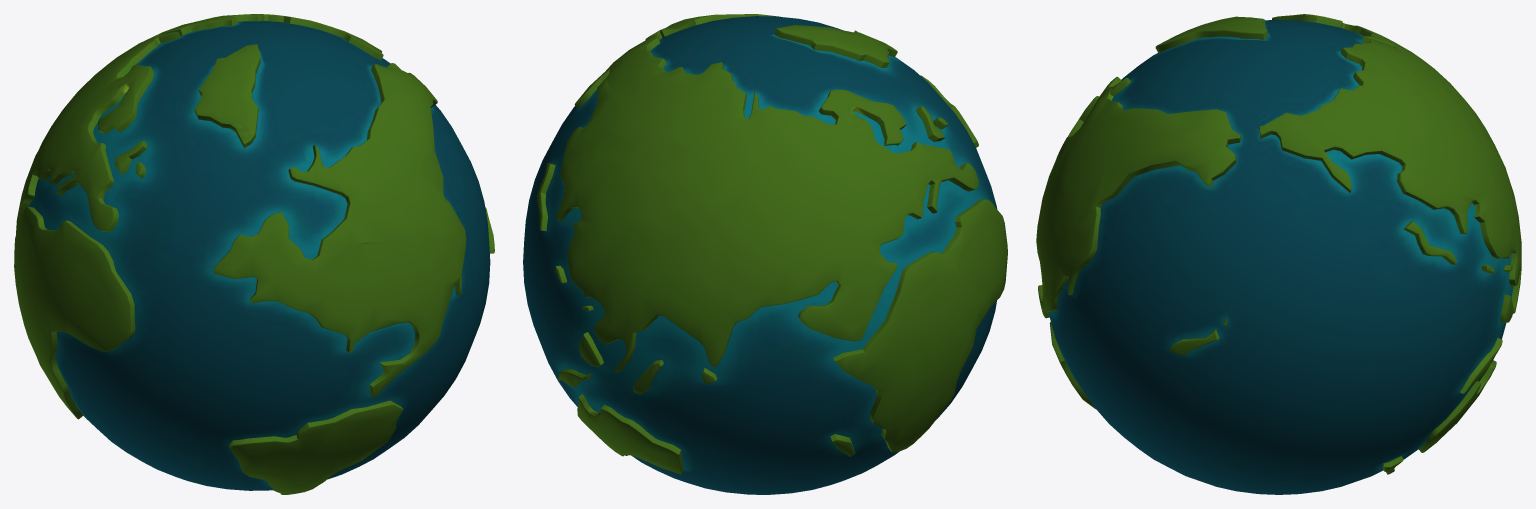
File: globe.glb
3 renders of one model, left to right at view 1: azimuth 30°, elevation 25°; view 2: azimuth 150°, elevation 25°; view 3: azimuth 270°, elevation 25°, orthographic.
Visible parts, largest first — view 1: globe; view 2: globe; view 3: globe.
Boxes of the visible parts, x1=… form: globe: x1=14, y1=14, x2=494, y2=494; globe: x1=523, y1=14, x2=1007, y2=494; globe: x1=1036, y1=14, x2=1521, y2=494.
Bounding box in the file's own units: 0.6363 × 0.638 × 0.6408.
Materials: 1 (1 with a texture image).
